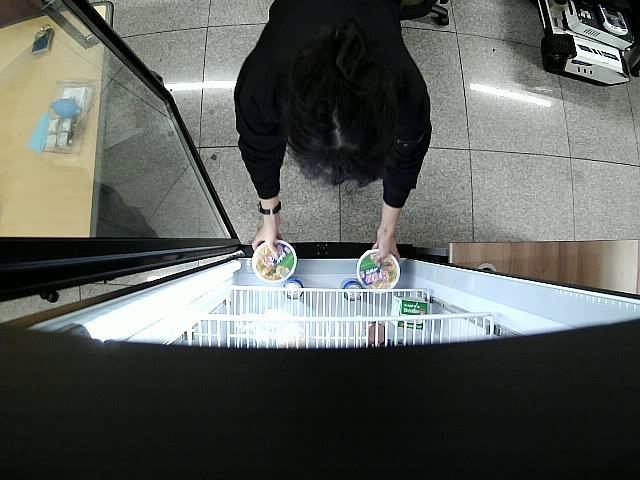09_yukGaeJang: (250, 240, 297, 284), (356, 249, 401, 294)
